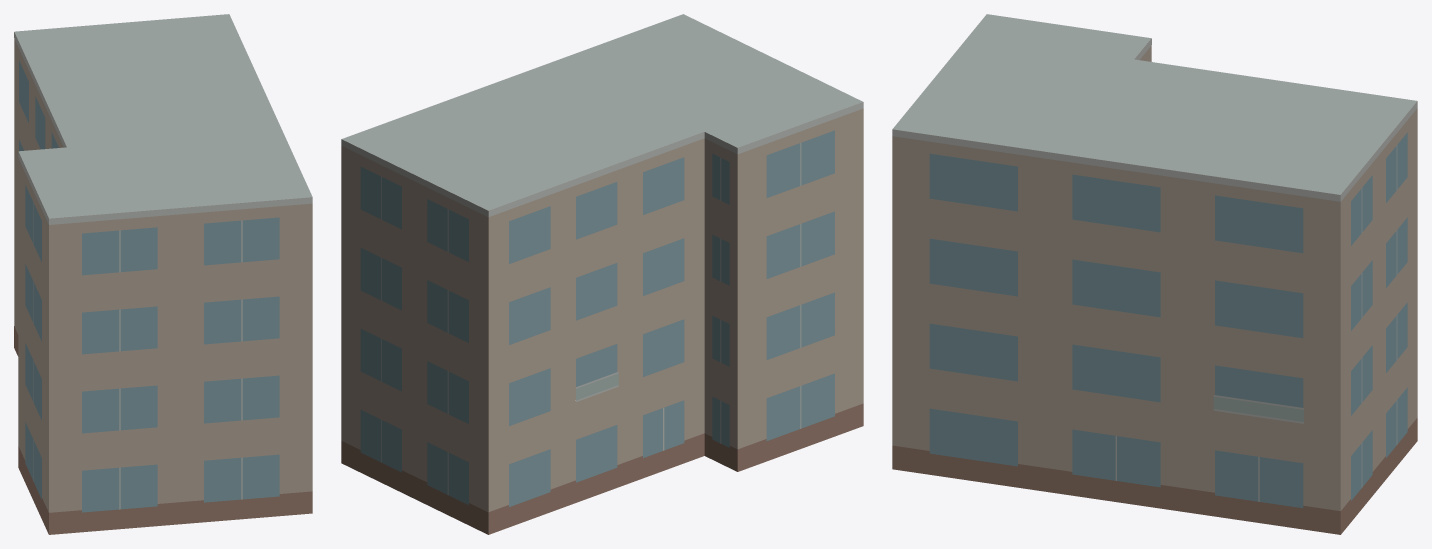
The model's file is residential-0e4fba7d-609a-4c6f-a900-38cd44963a93.glb.
The picture shows the model from 3 angles, left to right: view 1: azimuth 30°, elevation 25°; view 2: azimuth 150°, elevation 25°; view 3: azimuth 270°, elevation 25°; orthographic projection. The views are drawn at different scales.
Visible parts, largest first — view 1: residential-0e4fba7d-609a-4c6f-a900-38cd44963a93.tmp; view 2: residential-0e4fba7d-609a-4c6f-a900-38cd44963a93.tmp; view 3: residential-0e4fba7d-609a-4c6f-a900-38cd44963a93.tmp.
Boxes of the visible parts, bbox=[...] form: residential-0e4fba7d-609a-4c6f-a900-38cd44963a93.tmp: bbox=[14, 14, 312, 534]; residential-0e4fba7d-609a-4c6f-a900-38cd44963a93.tmp: bbox=[341, 14, 863, 534]; residential-0e4fba7d-609a-4c6f-a900-38cd44963a93.tmp: bbox=[892, 14, 1417, 534].
Bounding box in the file's own units: 13.94 × 12.2 × 17.1.
